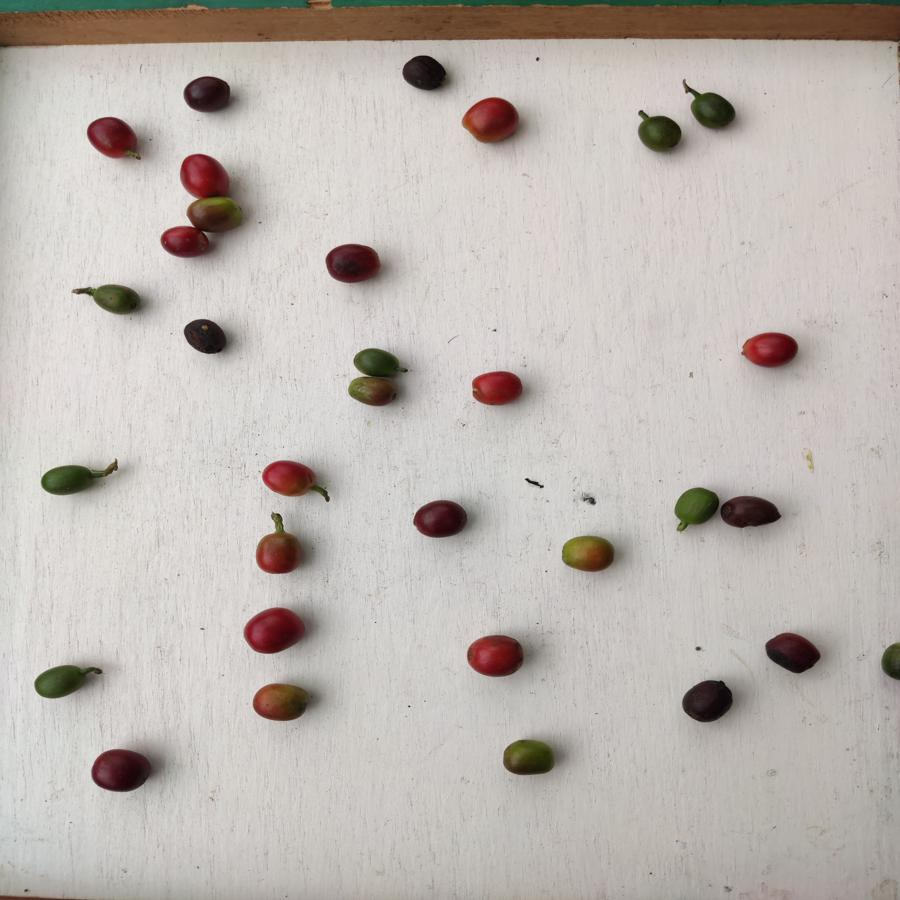Inmaduro: (689, 87, 740, 133), (30, 664, 87, 703), (40, 462, 98, 498), (86, 283, 143, 317), (674, 485, 718, 528), (637, 114, 683, 151), (351, 348, 400, 375)
Maduro: (244, 604, 310, 656), (465, 633, 527, 678), (465, 94, 520, 143), (177, 152, 235, 197), (737, 331, 804, 369), (258, 460, 318, 501), (253, 530, 304, 575), (470, 368, 524, 407)
Pinton: (185, 196, 250, 234), (558, 535, 619, 575), (250, 682, 310, 721), (501, 737, 556, 777), (344, 374, 401, 410)
Sobremaduro: (85, 117, 143, 167), (761, 628, 820, 676), (91, 748, 152, 794), (323, 242, 381, 289), (721, 494, 785, 535), (680, 677, 737, 722), (414, 497, 469, 539), (182, 75, 231, 118), (402, 53, 450, 93), (185, 318, 228, 360), (159, 228, 215, 254)
